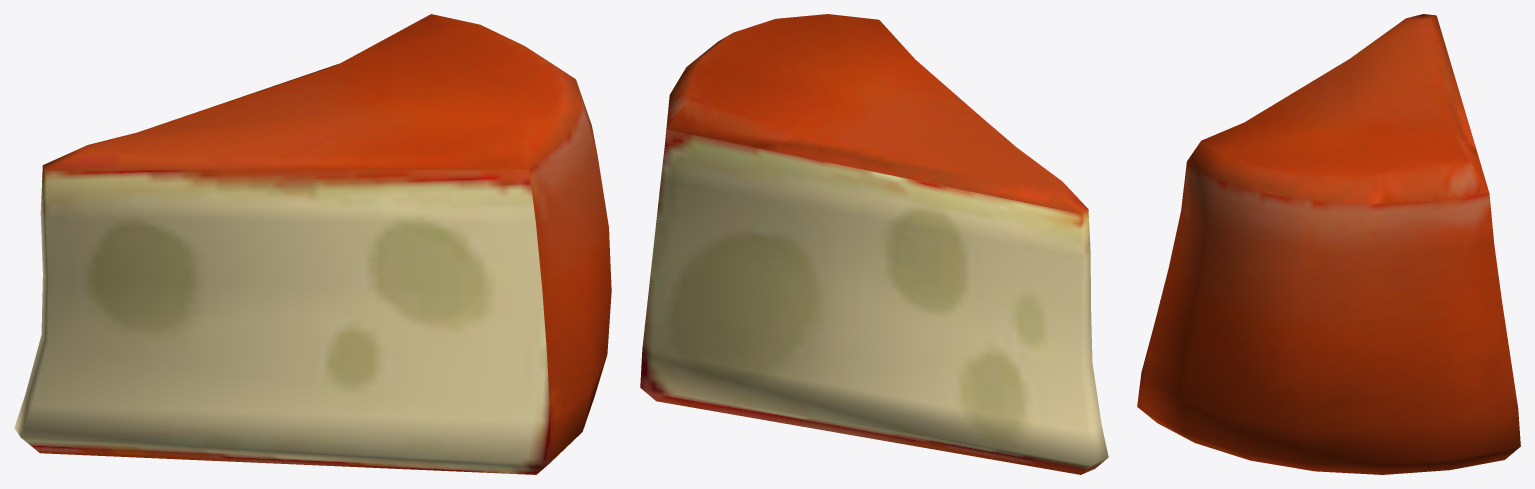
File: cheese.fbx
3 views of the same model, side by side, from view 1: azimuth 30°, elevation 25°; view 2: azimuth 150°, elevation 25°; view 3: azimuth 270°, elevation 25° (orthographic). The views are drawn at different scales.
Visible parts, largest first — view 1: cheese; view 2: cheese; view 3: cheese.
Part boxes in pixels (left/top/right/bottom): cheese: left=14, top=14, right=611, bottom=474; cheese: left=640, top=14, right=1108, bottom=474; cheese: left=1137, top=14, right=1520, bottom=474.
Size of the model in its own units: 72.33 by 43.33 by 51.2.
